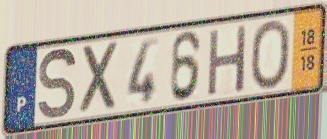4: (125, 36, 159, 107)
6: (169, 28, 202, 104)
H: (205, 22, 250, 100)
O: (248, 18, 292, 92)
S: (36, 46, 78, 122)
X: (79, 38, 122, 118)
